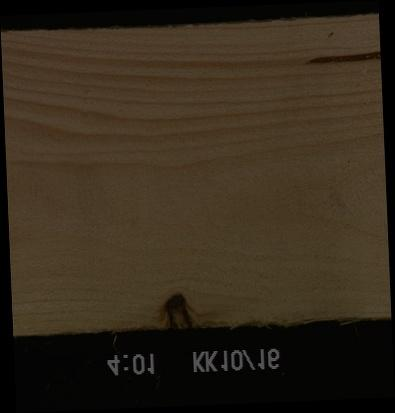edge_knot: (154, 292, 196, 329)
